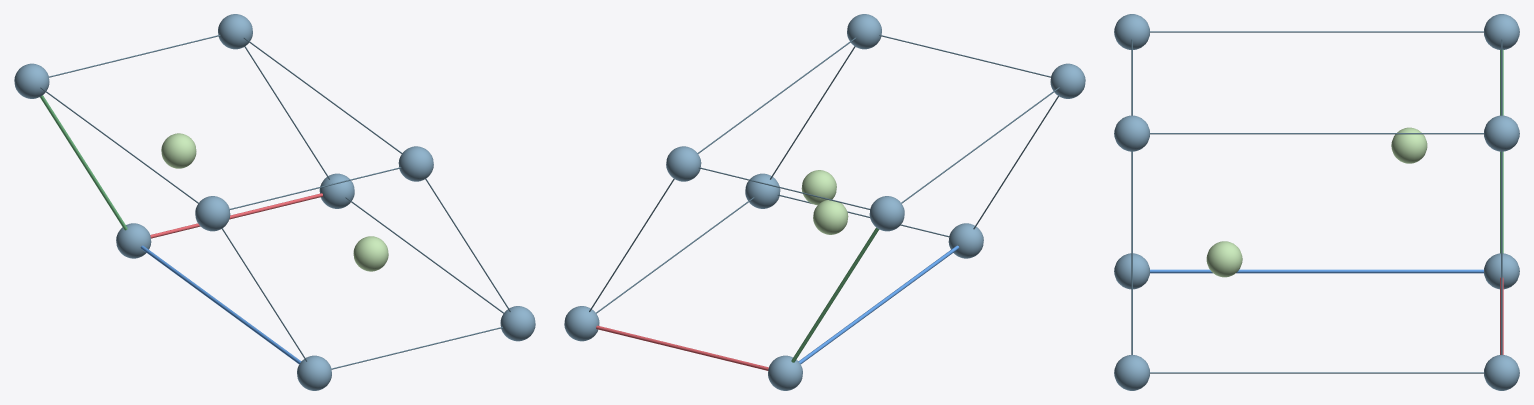
Rendered from chat-zinc-iodide.glb.
3 views of the same model, side by side, from view 1: azimuth 30°, elevation 25°; view 2: azimuth 150°, elevation 25°; view 3: azimuth 270°, elevation 25° (orthographic). The views are drawn at different scales.
Visible parts, largest first — view 1: Zn · Zn · 1 (×8), Ô mạng và các trục a, b, c, I · I · 1 (×2); view 2: Zn · Zn · 1 (×8), Ô mạng và các trục a, b, c, I · I · 1 (×2); view 3: Zn · Zn · 1 (×8), Ô mạng và các trục a, b, c, I · I · 1 (×2).
Boxes of the visible parts, x1,y1,x2,y2 form: Zn · Zn · 1 (×8): (14, 14, 535, 390); Ô mạng và các trục a, b, c: (40, 35, 510, 369); I · I · 1 (×2): (161, 133, 388, 271); Zn · Zn · 1 (×8): (564, 14, 1085, 390); Ô mạng và các trục a, b, c: (589, 35, 1059, 370); I · I · 1 (×2): (801, 170, 848, 234); Zn · Zn · 1 (×8): (1114, 14, 1519, 390); Ô mạng và các trục a, b, c: (1131, 31, 1503, 373); I · I · 1 (×2): (1206, 127, 1427, 277).
Bounding box in the file's own units: 7.01 × 4.32 × 7.18.
